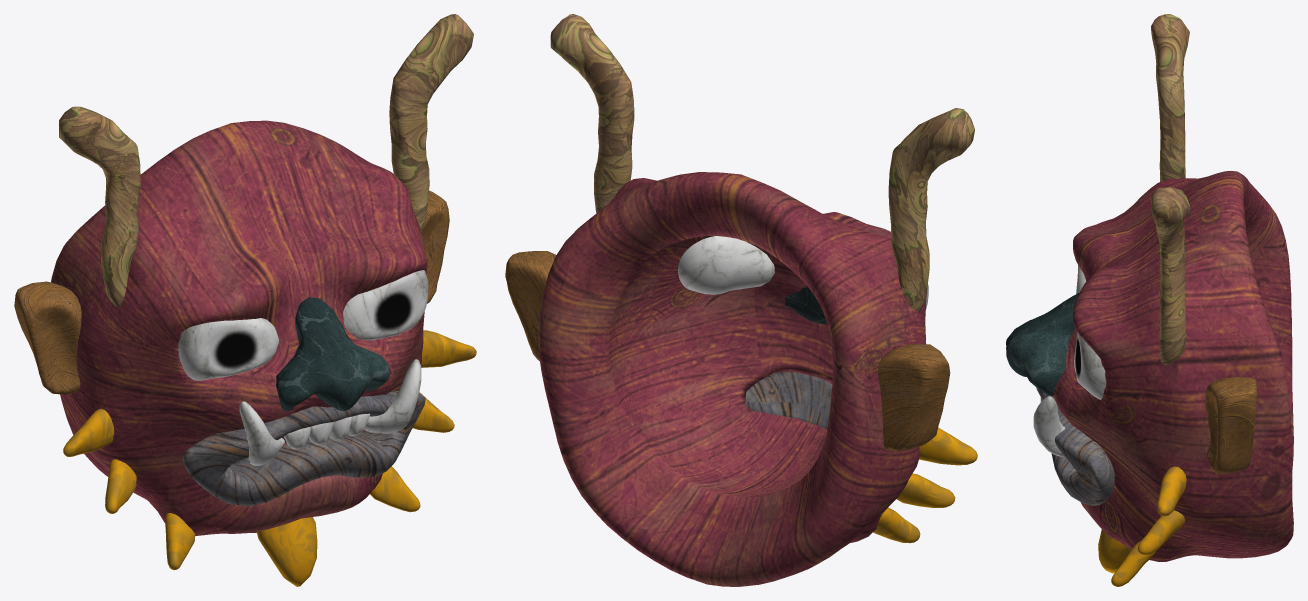
The model's file is Mask1.fbx.
3 renders of one model, left to right at view 1: azimuth 30°, elevation 25°; view 2: azimuth 150°, elevation 25°; view 3: azimuth 270°, elevation 25°, orthographic. The views are drawn at different scales.
Visible parts, largest first — view 1: Mask1Shape_low, Mask1Horns_low, Mask1Mouth_low, Mask1LowHorns_low, Mask1Eyes_low, Mask1Nose_low, Mask1Ears_low, Mask1Teeth_low; view 2: Mask1Shape_low, Mask1Horns_low, Mask1Ears_low, Mask1Eyes_low, Mask1LowHorns_low, Mask1Mouth_low, Mask1Nose_low; view 3: Mask1Shape_low, Mask1Horns_low, Mask1Ears_low, Mask1Nose_low, Mask1LowHorns_low, Mask1Mouth_low, Mask1Eyes_low, Mask1Teeth_low.
Boxes of the visible parts, bbox=[...] form: Mask1Shape_low: bbox=[51, 120, 427, 535]; Mask1Horns_low: bbox=[59, 14, 473, 307]; Mask1Mouth_low: bbox=[183, 390, 425, 506]; Mask1LowHorns_low: bbox=[63, 330, 476, 586]; Mask1Eyes_low: bbox=[178, 270, 428, 380]; Mask1Nose_low: bbox=[276, 297, 390, 411]; Mask1Ears_low: bbox=[14, 190, 449, 394]; Mask1Teeth_low: bbox=[239, 359, 421, 465]; Mask1Shape_low: bbox=[538, 172, 926, 586]; Mask1Horns_low: bbox=[550, 14, 974, 311]; Mask1Ears_low: bbox=[505, 251, 950, 451]; Mask1Eyes_low: bbox=[678, 236, 928, 310]; Mask1LowHorns_low: bbox=[873, 427, 977, 543]; Mask1Mouth_low: bbox=[745, 371, 832, 428]; Mask1Nose_low: bbox=[783, 286, 827, 324]; Mask1Shape_low: bbox=[1053, 170, 1293, 561]; Mask1Horns_low: bbox=[1151, 14, 1189, 364]; Mask1Ears_low: bbox=[1205, 377, 1256, 473]; Mask1Nose_low: bbox=[1006, 293, 1079, 396]; Mask1LowHorns_low: bbox=[1098, 466, 1186, 586]; Mask1Mouth_low: bbox=[1036, 387, 1114, 505]; Mask1Eyes_low: bbox=[1074, 265, 1106, 399]; Mask1Teeth_low: bbox=[1033, 396, 1064, 456].
Bounding box in the file's own units: 173 × 196 × 108.
Materials: 8 (8 with a texture image).
